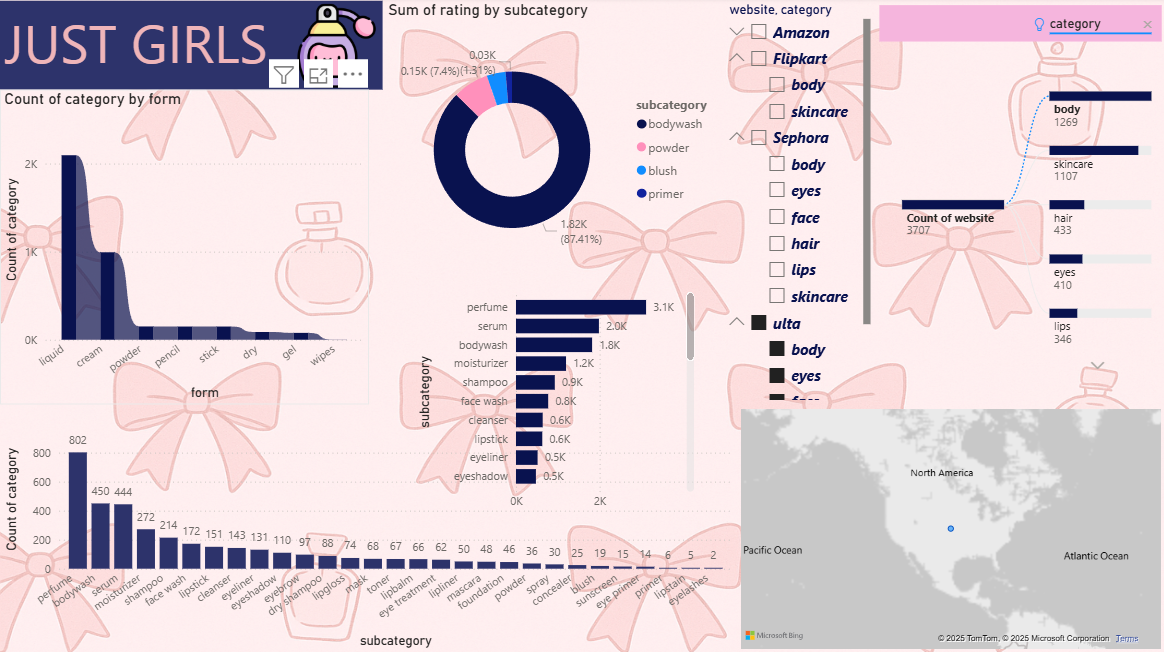

What the dashboard file says about the page in this screenshot:
{"tool":"powerbi","page":{"name":"Page 1","canvas":[1280,720],"ordinal":0},"visuals":[{"type":"map","fields":{"Category":["cosmetic.country"]},"box":[808.6,447.1,471.4,272.9],"z":0},{"type":"columnChart","fields":{"Category":["cosmetic.subcategory"],"Y":["CountNonNull(cosmetic.category)"]},"box":[0,461.4,808.6,258.6],"z":1000},{"type":"textbox","box":[0,4.1,419.9,97.4],"z":2000},{"type":"image","box":[229.2,2.7,281.3,101.5],"z":3000},{"type":"slicer","fields":{"Values":["cosmetic.website","cosmetic.category"]},"box":[787.1,0,172.9,447.1],"z":4000},{"type":"decompositionTreeVisual","fields":{"Analyze":["CountNonNull(cosmetic.website)"],"ExplainBy":["cosmetic.category"]},"box":[960,4.3,320,442.9],"z":5000},{"type":"ribbonChart","fields":{"Category":["cosmetic.form"],"Y":["CountNonNull(cosmetic.category)"]},"box":[0,101.4,404.3,345.7],"z":6000},{"type":"donutChart","fields":{"Category":["cosmetic.subcategory"],"Y":["Sum(cosmetic.rating)"]},"box":[421.4,4.3,377.1,308.6],"z":7000},{"type":"clusteredBarChart","fields":{"Category":["cosmetic.subcategory"],"Y":["Sum(cosmetic.rating)"]},"box":[452.8,311.5,314.2,260.7],"z":8000}]}

Visuals, with their boxes in screenshot pixels (x1, y1, x2, y2), scaled from the page's 1280x720 canvas onto the 1164x652 screenshot:
map - cosmetic.country: bbox(735, 405, 1163, 651)
columnChart - cosmetic.subcategory x CountNonNull(cosmetic.category): bbox(0, 418, 735, 651)
textbox: bbox(0, 4, 382, 92)
image: bbox(208, 2, 464, 94)
slicer - cosmetic.website x cosmetic.category: bbox(716, 0, 873, 405)
decompositionTreeVisual - CountNonNull(cosmetic.website) x cosmetic.category: bbox(873, 4, 1163, 405)
ribbonChart - cosmetic.form x CountNonNull(cosmetic.category): bbox(0, 92, 368, 405)
donutChart - cosmetic.subcategory x Sum(cosmetic.rating): bbox(383, 4, 726, 283)
clusteredBarChart - cosmetic.subcategory x Sum(cosmetic.rating): bbox(412, 282, 697, 518)
